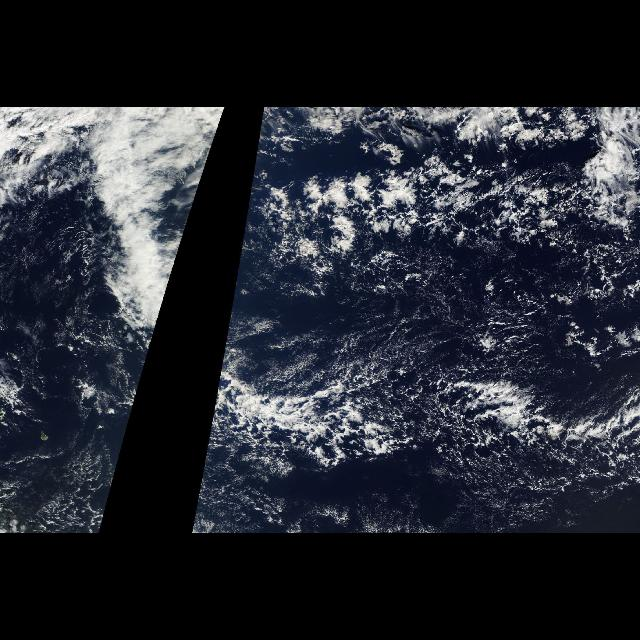Flower: (268, 175, 572, 262)
Gravel: (272, 142, 632, 530)
Sugar: (205, 324, 632, 488), (274, 148, 592, 286)
